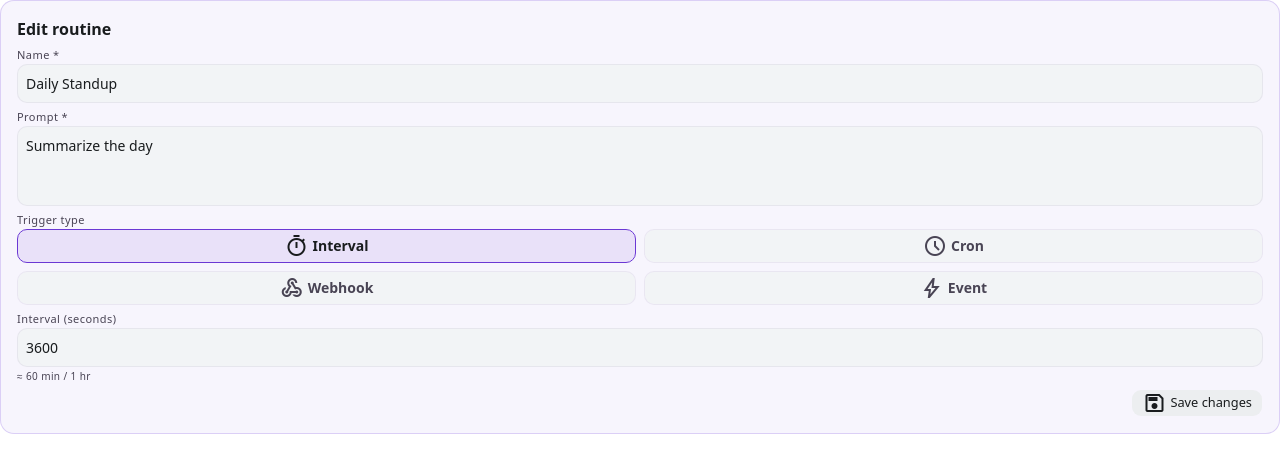
RoutineBasicsEditor › blocks Save while the edited cron expression is invalid
The image size is (1280, 465).
Click the radio button labelled "Cron" at (954, 246), box [644,229,1263,263]
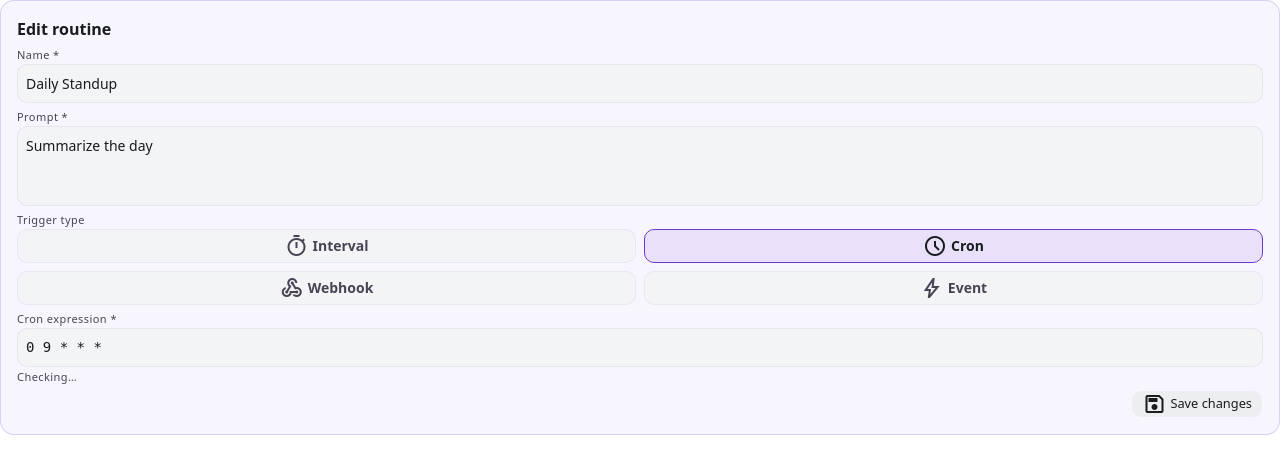
Replace the text in the field with test id "routine-basics-cron" with "bad" at (640, 348), box [17,328,1263,367]
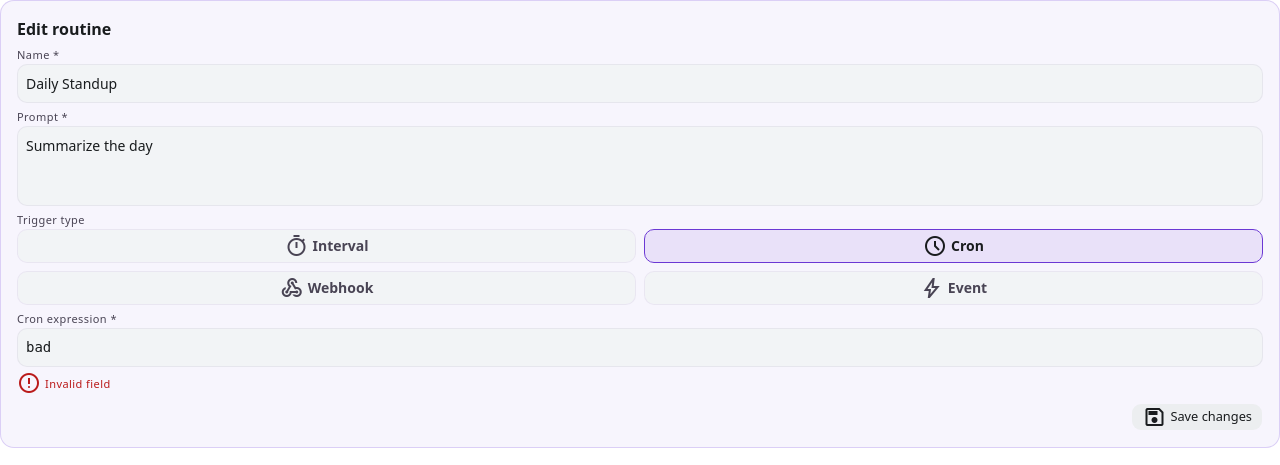
Expected: the button with test id "routine-basics-save" is disabled, [1131,403,1263,431]
Now the message "Invalid field" is shown, box [17,369,111,397]
